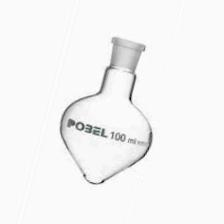Pear shaped flask: (53, 26, 154, 188)
